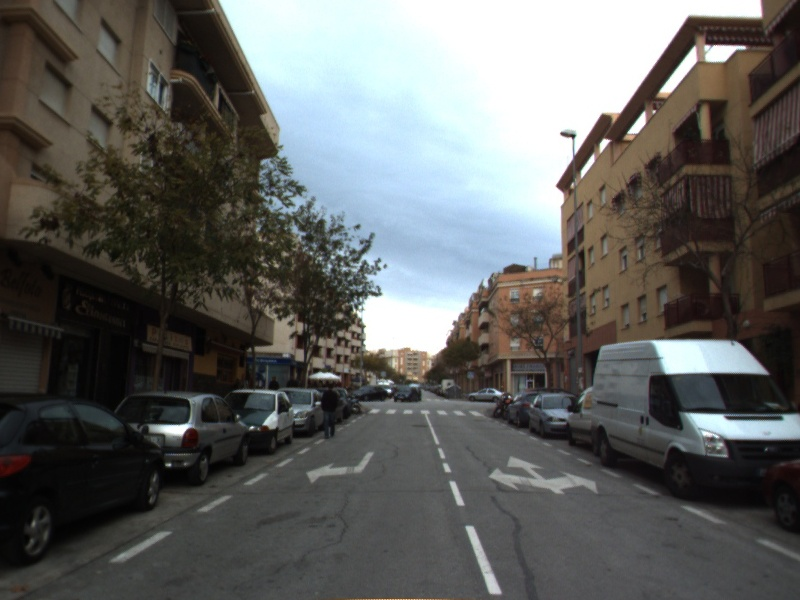STRAIGHT_LEFT_RIGHT: (486, 454, 599, 496)
